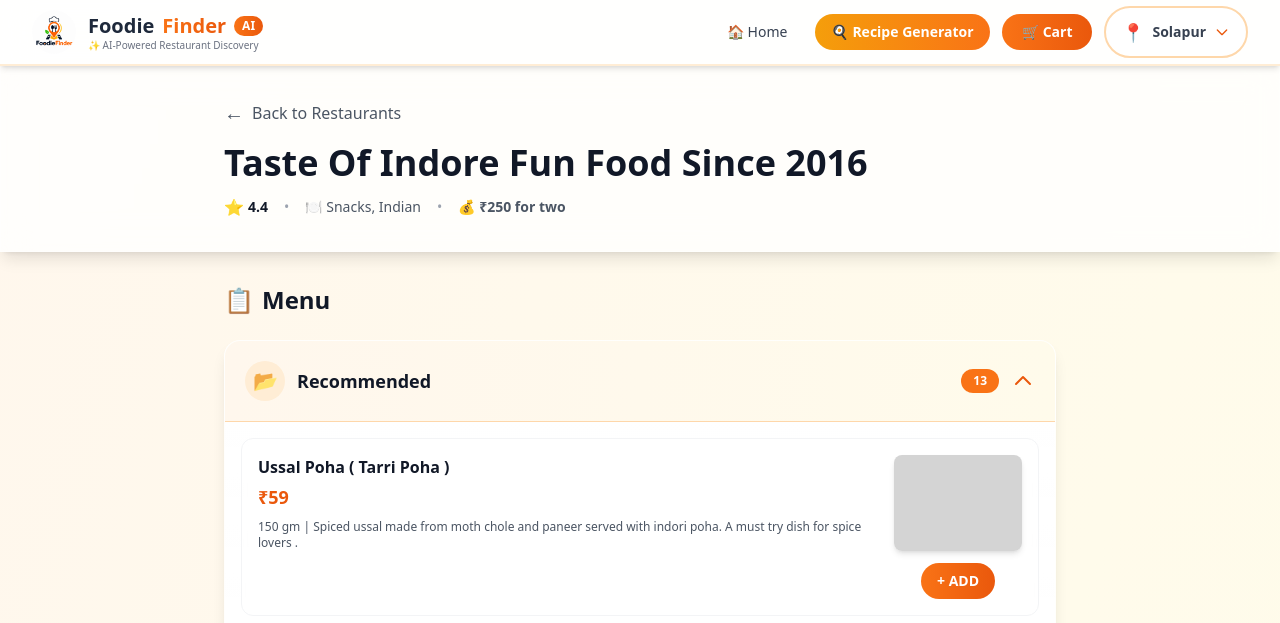
Scenario: should load RestaurantMenu Component
Expected: the text "Recommended" is shown, [297, 369, 431, 393]
Click the button "+ ADD" at {"x": 958, "y": 581}, box [921, 563, 995, 599]
(page scrolled)
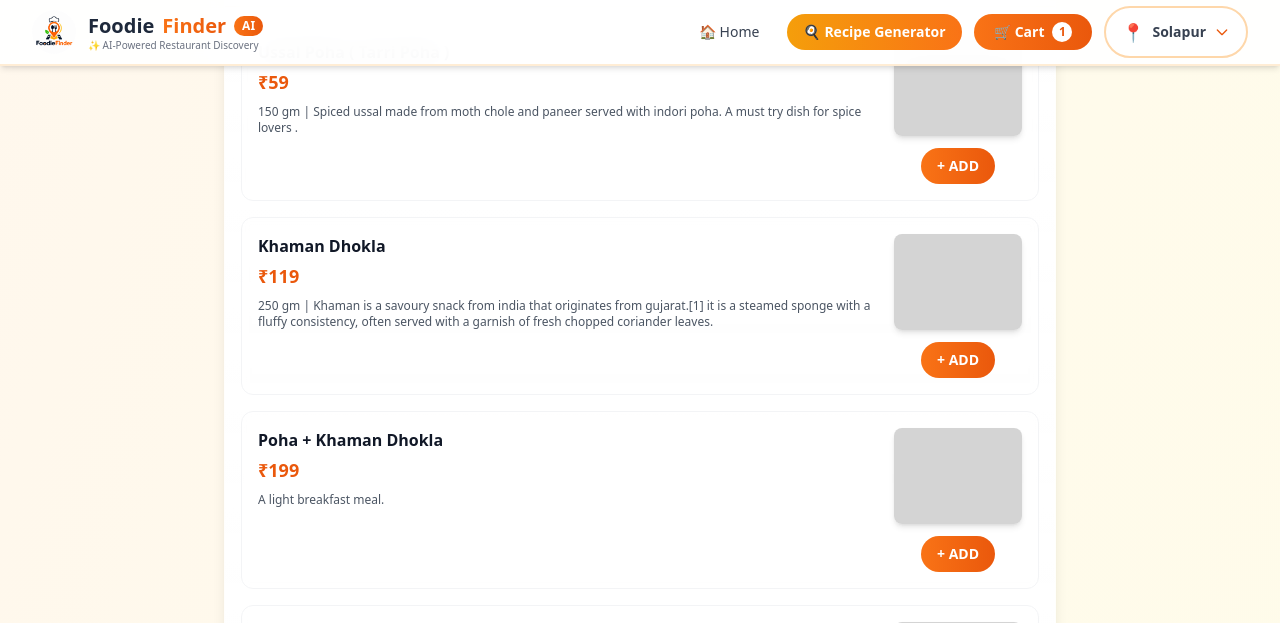
Expected: the link "🛒 Cart 1" is shown, [974, 14, 1092, 50]
Click the 2nd button "+ ADD" at {"x": 958, "y": 360}, box [921, 342, 995, 378]
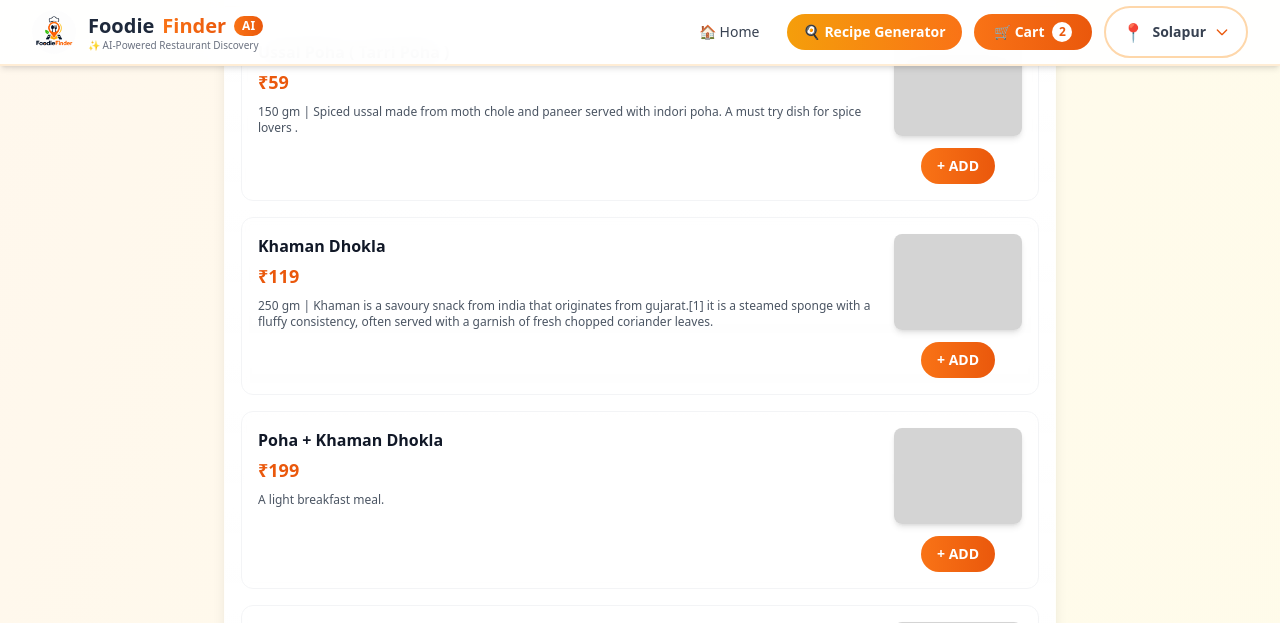
Expected: the link "🛒 Cart 2" is shown, [974, 14, 1092, 50]
Click the 3rd button "+ ADD" at {"x": 958, "y": 554}, box [921, 536, 995, 572]
(page scrolled)
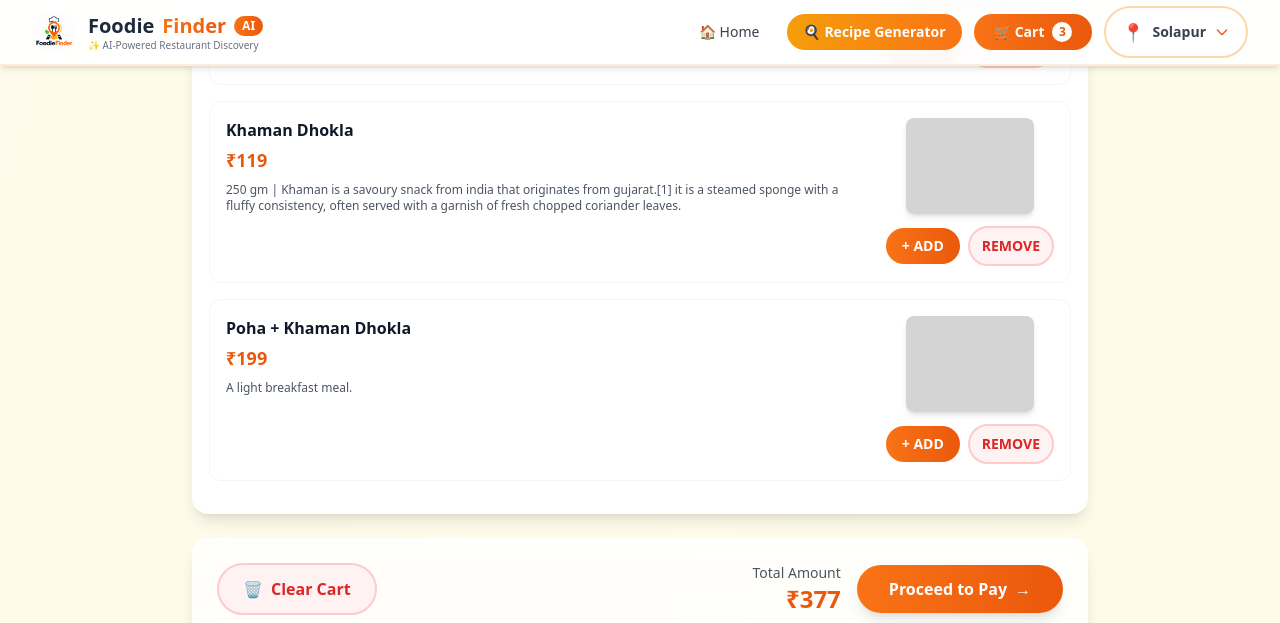
Expected: the link "🛒 Cart 3" is shown, [974, 14, 1092, 50]
Click the button "🗑️ Clear Cart" at {"x": 297, "y": 589}, box [217, 563, 377, 615]
(page scrolled)
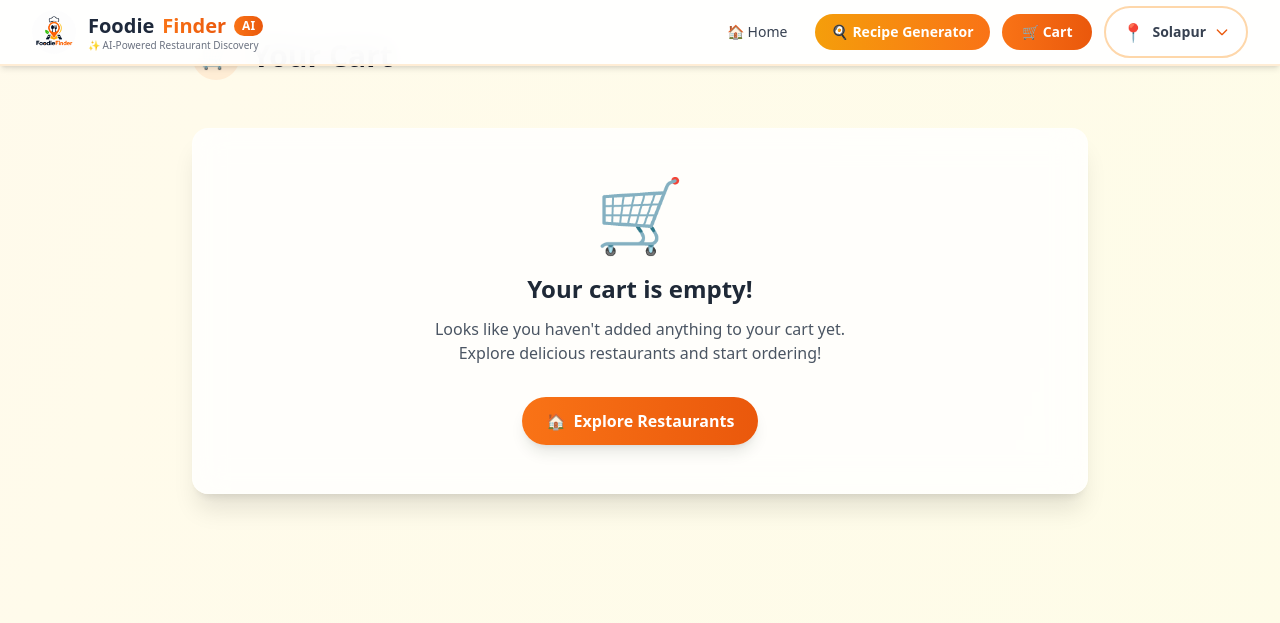
Expected: the text "Looks like you haven't added" is shown, [435, 318, 845, 340]
